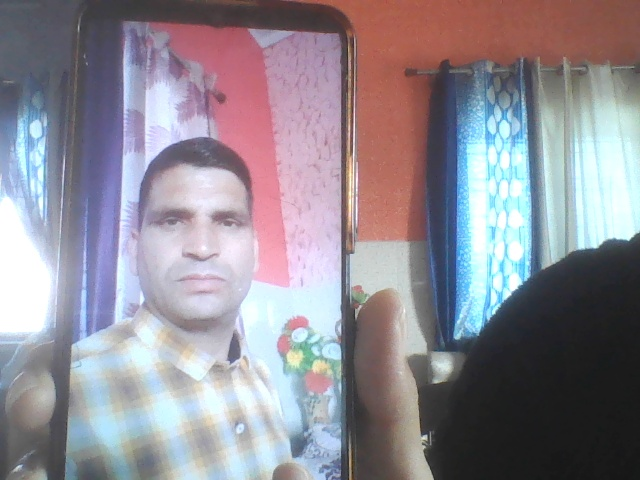fake: (130, 132, 266, 325)
